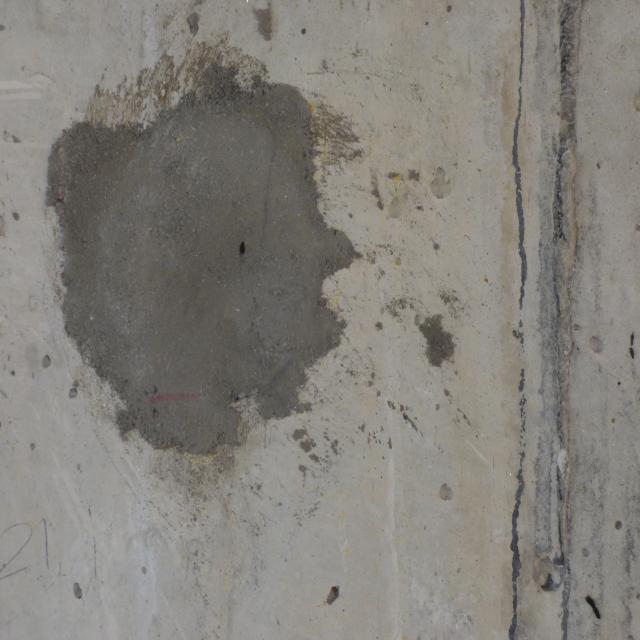corrosion: (584, 592, 601, 622), (626, 329, 637, 363)
